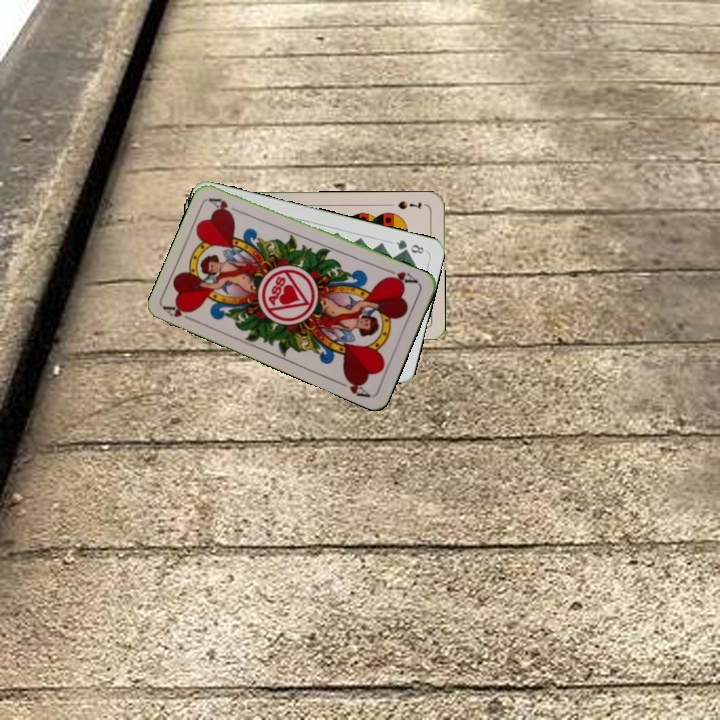G8: (392, 235, 428, 256)
HA: (161, 300, 200, 325), (382, 265, 420, 287)
S7: (394, 197, 424, 211)
